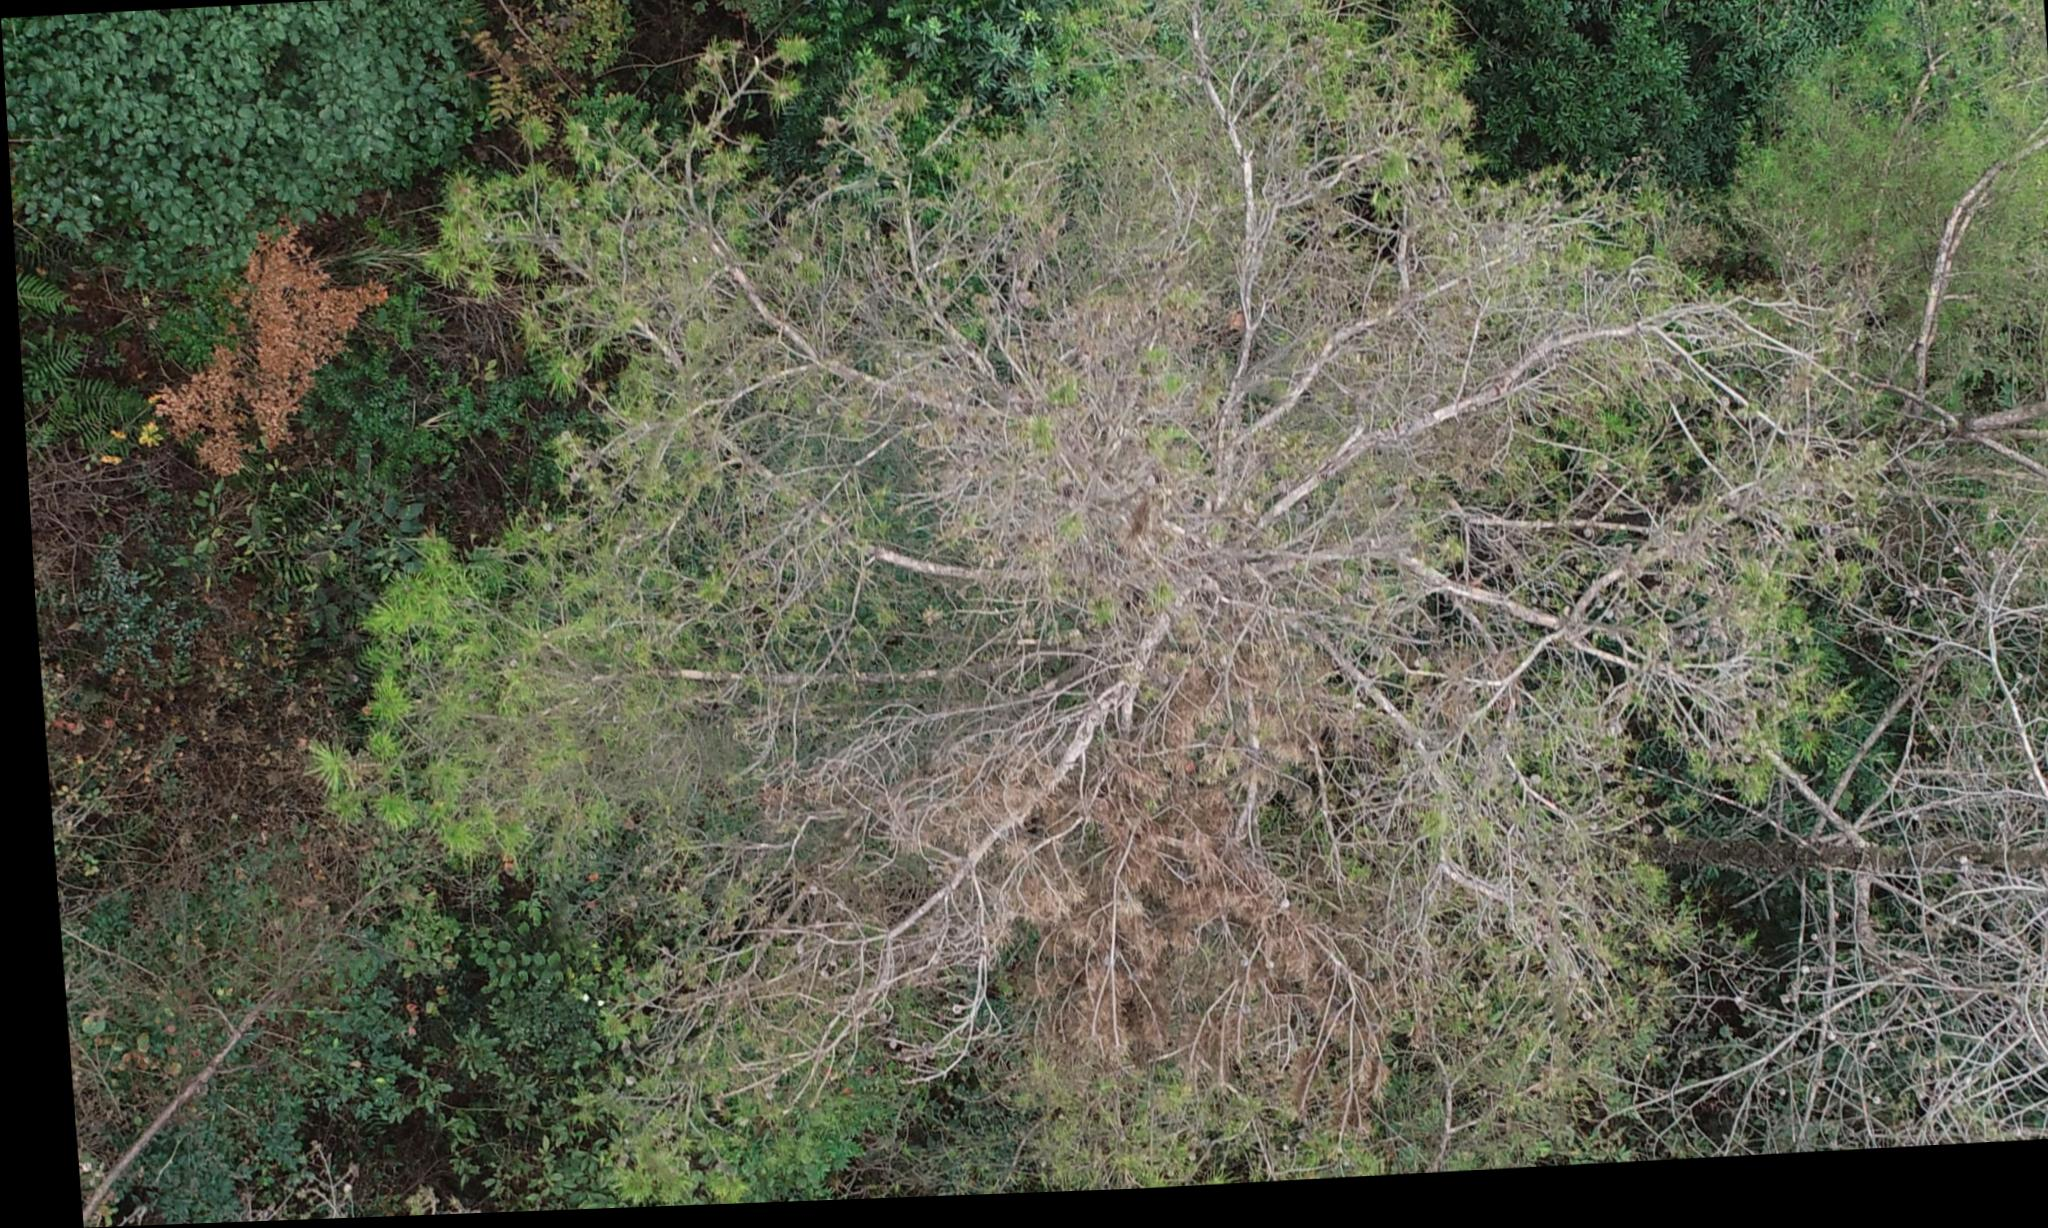dead: (434, 0, 1792, 1133), (1814, 615, 2048, 1164)
heavy: (107, 189, 444, 538)
